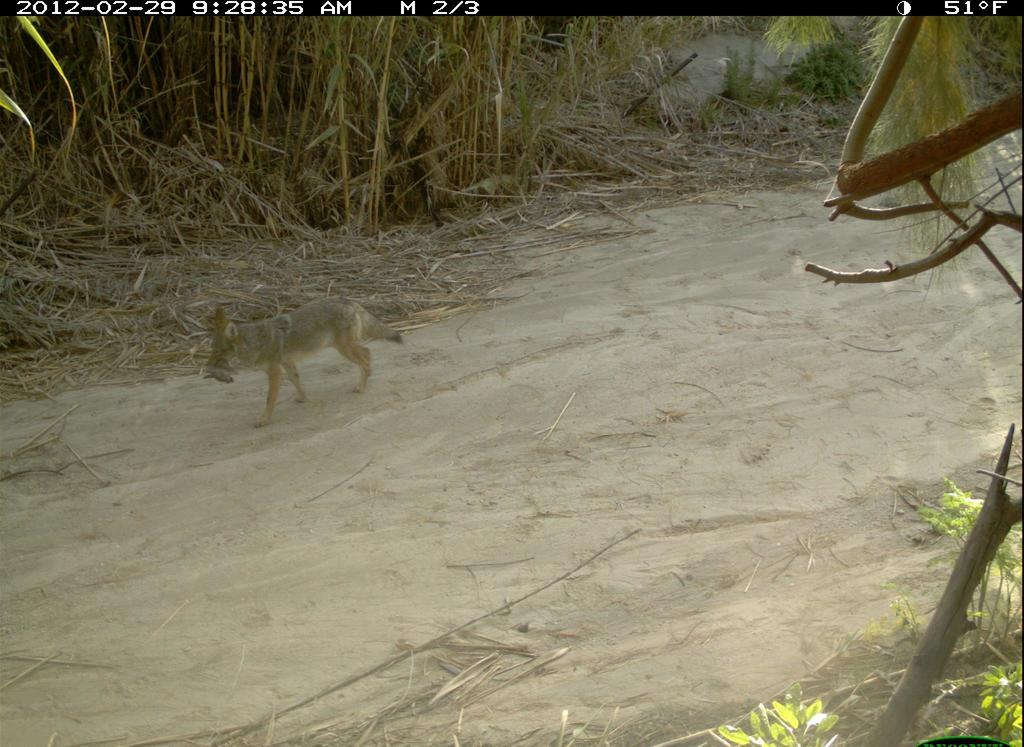coyote: (205, 290, 415, 436)
